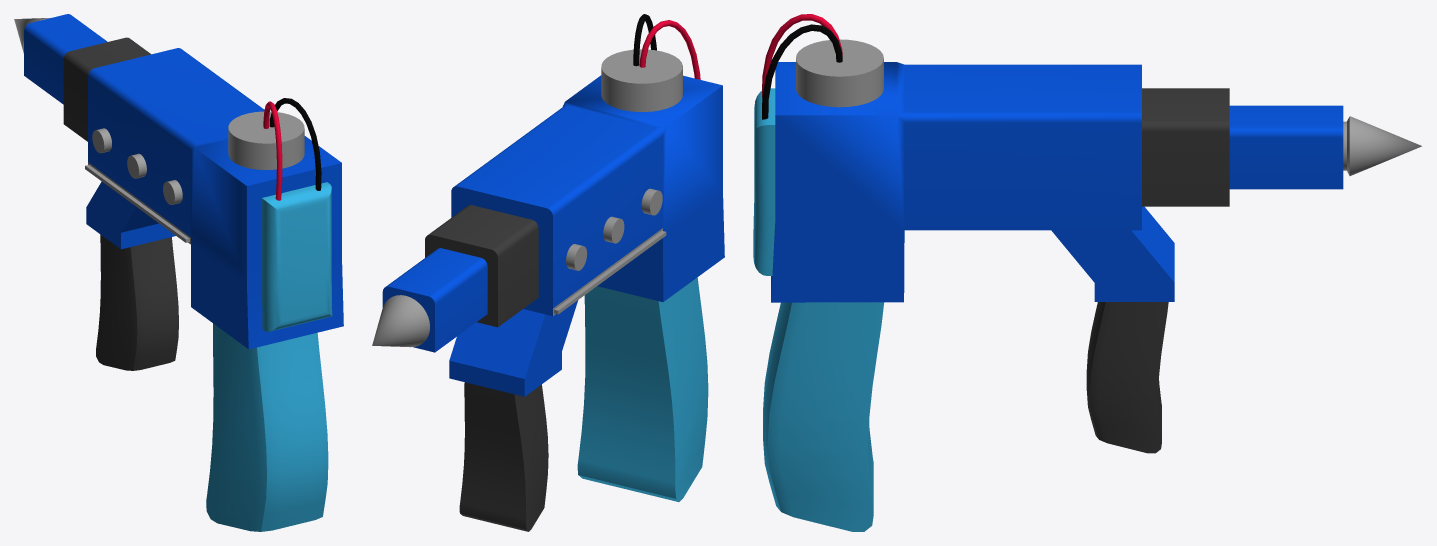
The model's file is Gun.fbx.
3 views of the same model, side by side, from view 1: azimuth 30°, elevation 25°; view 2: azimuth 150°, elevation 25°; view 3: azimuth 270°, elevation 25° (orthographic). The views are drawn at different scales.
Parts seen in each view (by area): view 1: Cube, Cylinder, Cylinder.001, BezierCurve, BezierCurve.001; view 2: Cube, Cylinder, Cylinder.001, BezierCurve.001, BezierCurve; view 3: Cube, Cylinder, BezierCurve, BezierCurve.001.
Boxes of the visible parts, left/top/right/bottom form: Cube: left=14, top=14, right=343, bottom=531; Cylinder: left=228, top=111, right=304, bottom=169; Cylinder.001: left=92, top=128, right=182, bottom=204; BezierCurve: left=269, top=98, right=321, bottom=190; BezierCurve.001: left=263, top=101, right=282, bottom=200; Cube: left=372, top=75, right=724, bottom=531; Cylinder: left=601, top=49, right=682, bottom=111; Cylinder.001: left=566, top=188, right=662, bottom=270; BezierCurve.001: left=639, top=20, right=700, bottom=79; BezierCurve: left=633, top=14, right=656, bottom=66; Cube: left=753, top=62, right=1421, bottom=531; Cylinder: left=796, top=39, right=883, bottom=107; BezierCurve: left=762, top=24, right=842, bottom=119; BezierCurve.001: left=762, top=14, right=842, bottom=97.
Bounding box in the file's own units: 125 × 493 × 611.
